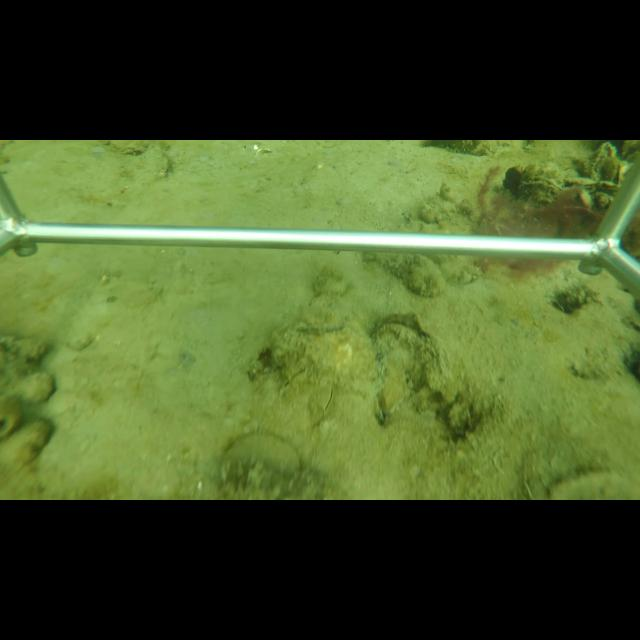Oyster-Closed: (513, 175, 569, 203)
Oyster-Open: (370, 311, 444, 391)
